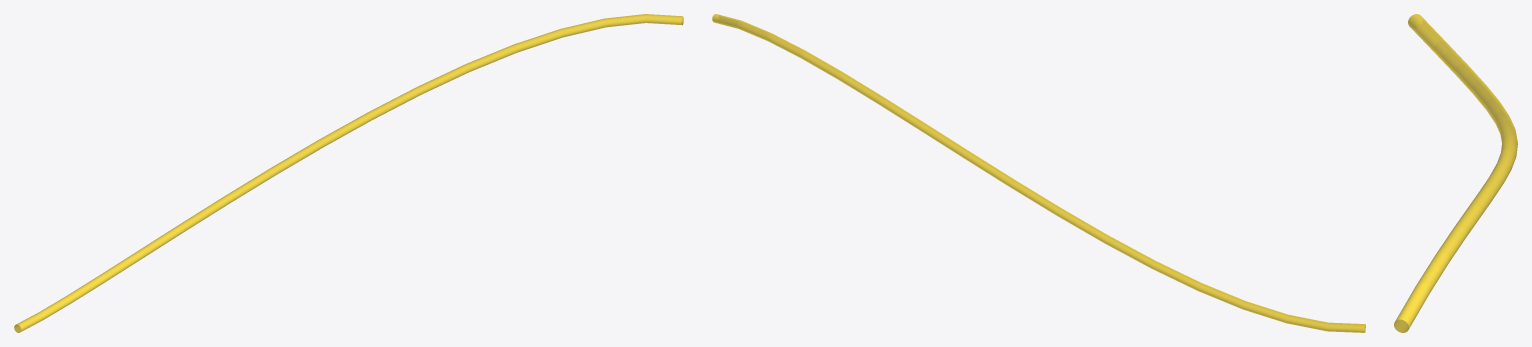
The model's file is Event_84804159_track_68.fbx.
The picture shows the model from 3 angles, left to right: view 1: azimuth 30°, elevation 25°; view 2: azimuth 150°, elevation 25°; view 3: azimuth 270°, elevation 25°; orthographic projection. The views are drawn at different scales.
Parts seen in each view (by area): view 1: Model; view 2: Model; view 3: Model.
Boxes of the visible parts, x1,y1,x2,y2 form: Model: (14, 14, 683, 332); Model: (712, 14, 1365, 332); Model: (1394, 14, 1517, 332).
Size of the model in its own units: 3.4 by 0.8004 by 0.3116.
